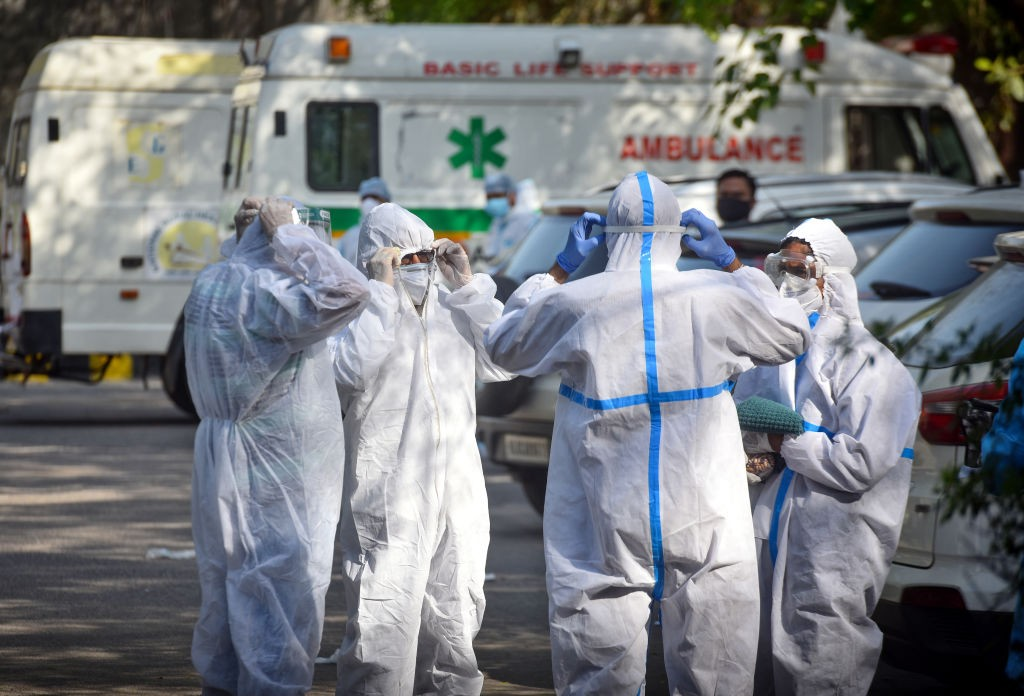Coverall: (487, 169, 806, 696), (178, 218, 369, 696), (332, 195, 504, 696), (752, 212, 926, 696)
Face_Shield: (292, 207, 336, 251)
Gloves: (677, 206, 737, 272), (551, 208, 602, 276), (429, 238, 472, 298), (365, 240, 396, 291), (229, 196, 264, 241), (258, 200, 294, 239)
Goggles: (757, 249, 818, 276)
with_mask: (394, 246, 435, 309), (779, 265, 821, 312)
